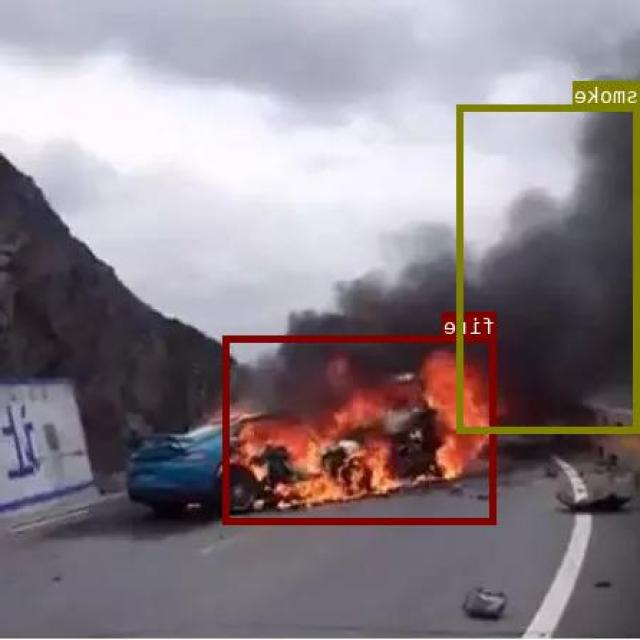fire: (224, 335, 497, 523)
smoke: (459, 103, 640, 431)
